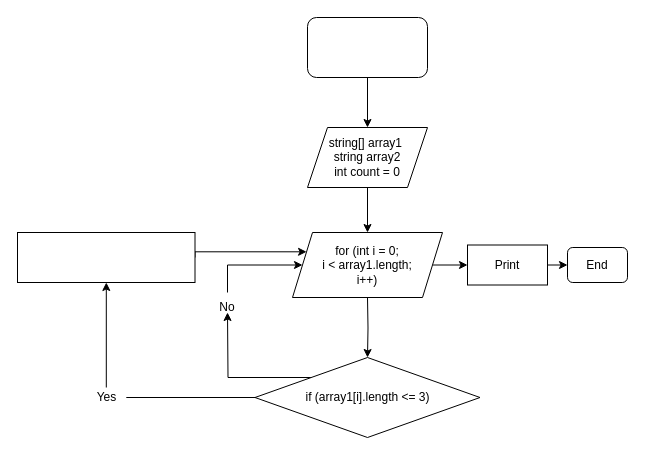
The diagram is 645 pixels wide and 455 high, and some of its shapes have lost their labels. Each missing label, with the centre of its shape:
array2[count] = array1[i] count++;: (x=105, y=257)
SecondArrayWithIf: (x=367, y=47)
